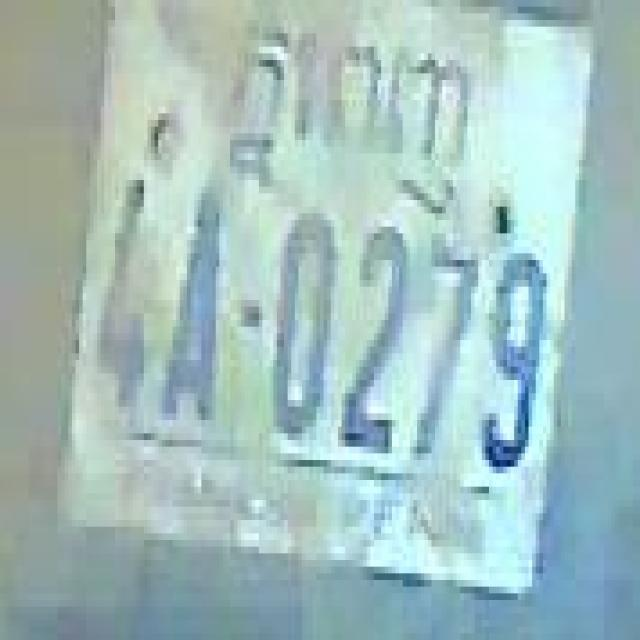Phnom_Penh: (180, 13, 469, 208)
